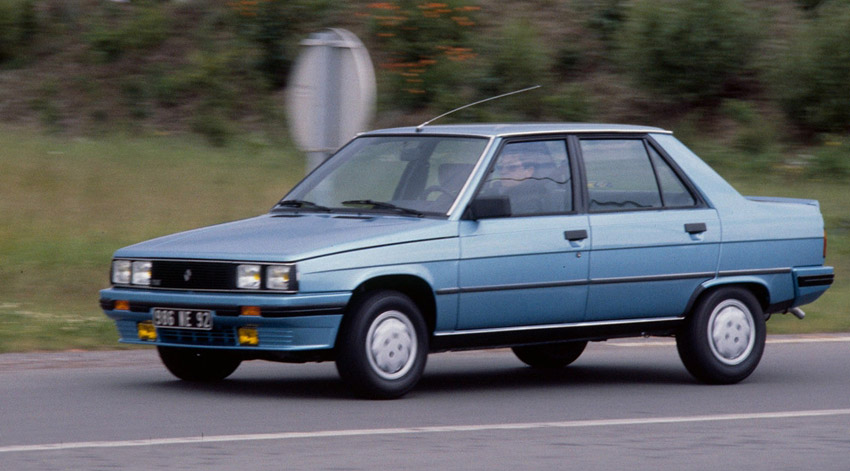car: (102, 124, 833, 387)
